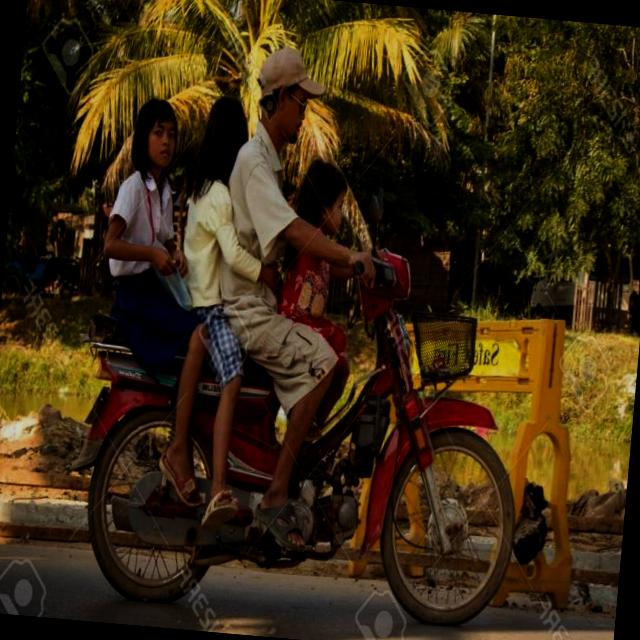motorcycle: (60, 213, 551, 640)
person: (161, 82, 288, 496), (85, 84, 232, 432), (219, 44, 324, 414), (266, 149, 386, 457)
rider_region: (59, 30, 564, 638)
